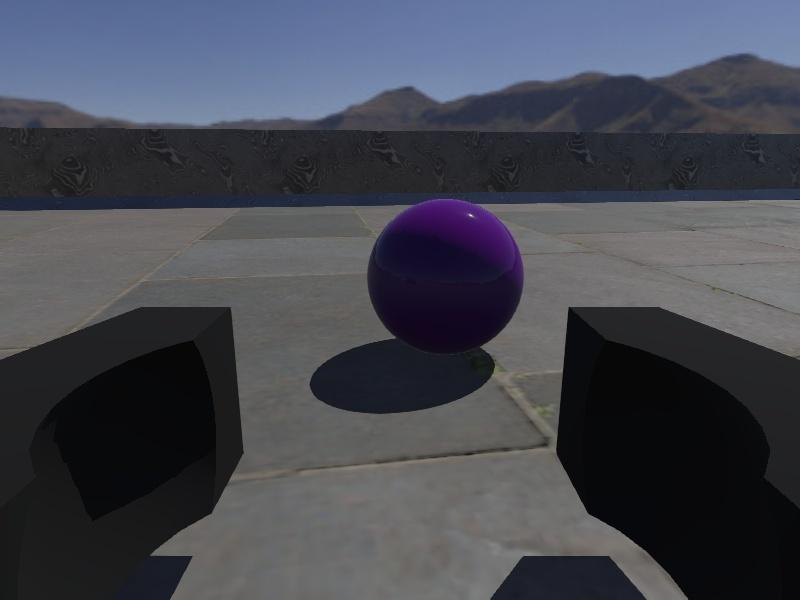violet ball: (367, 198, 525, 356)
